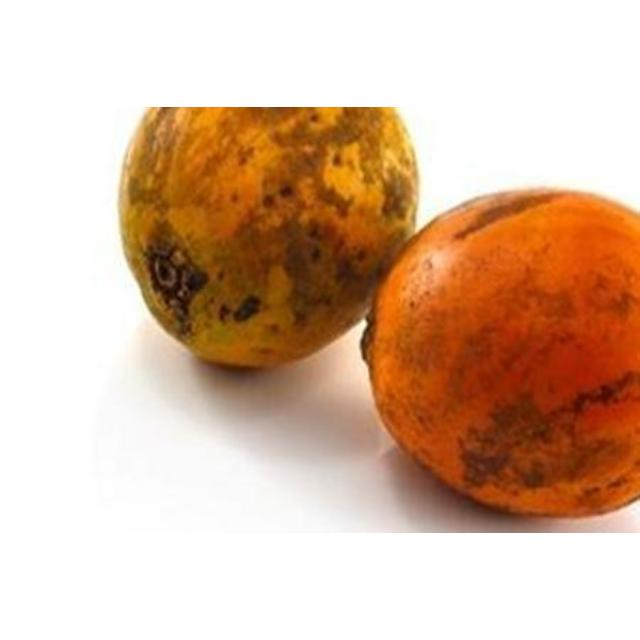good: (360, 189, 639, 519), (118, 107, 420, 372)
